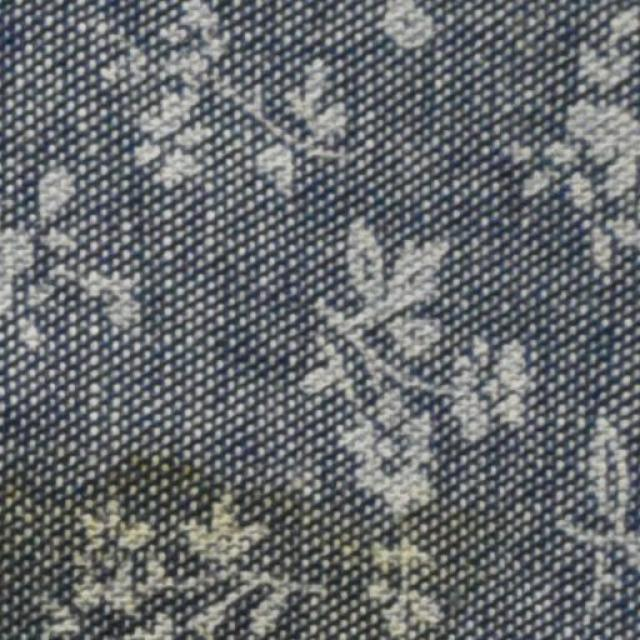Stain: (0, 432, 465, 639)
